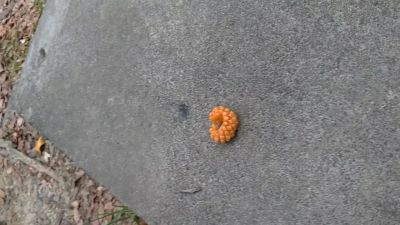eggs: (207, 105, 238, 144)
